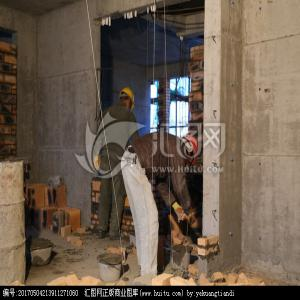red: (182, 135, 198, 165)
yellow: (120, 87, 135, 110)
